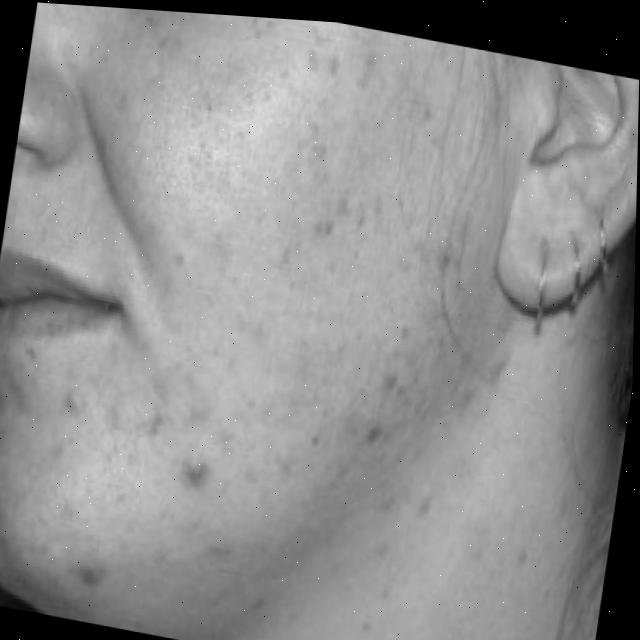Acne: (32, 3, 508, 640)
